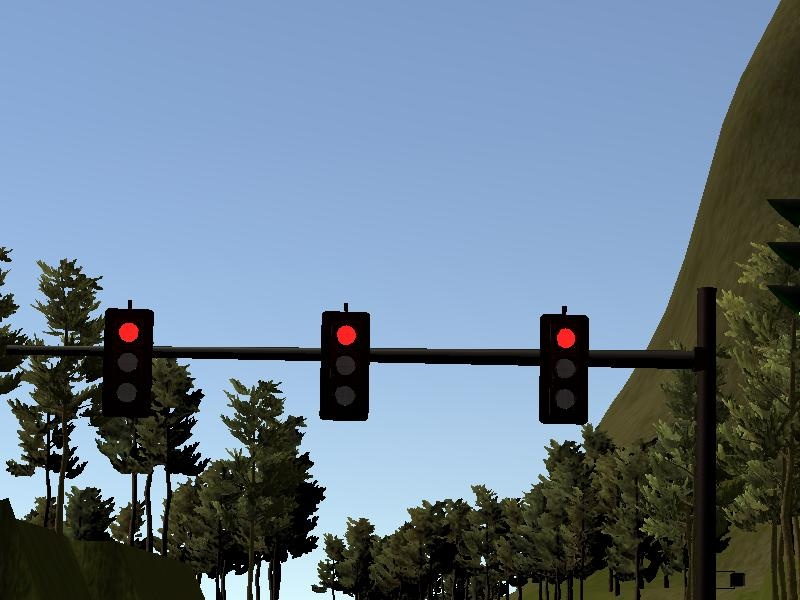red: (99, 303, 160, 421), (316, 300, 374, 424), (536, 308, 592, 427)
